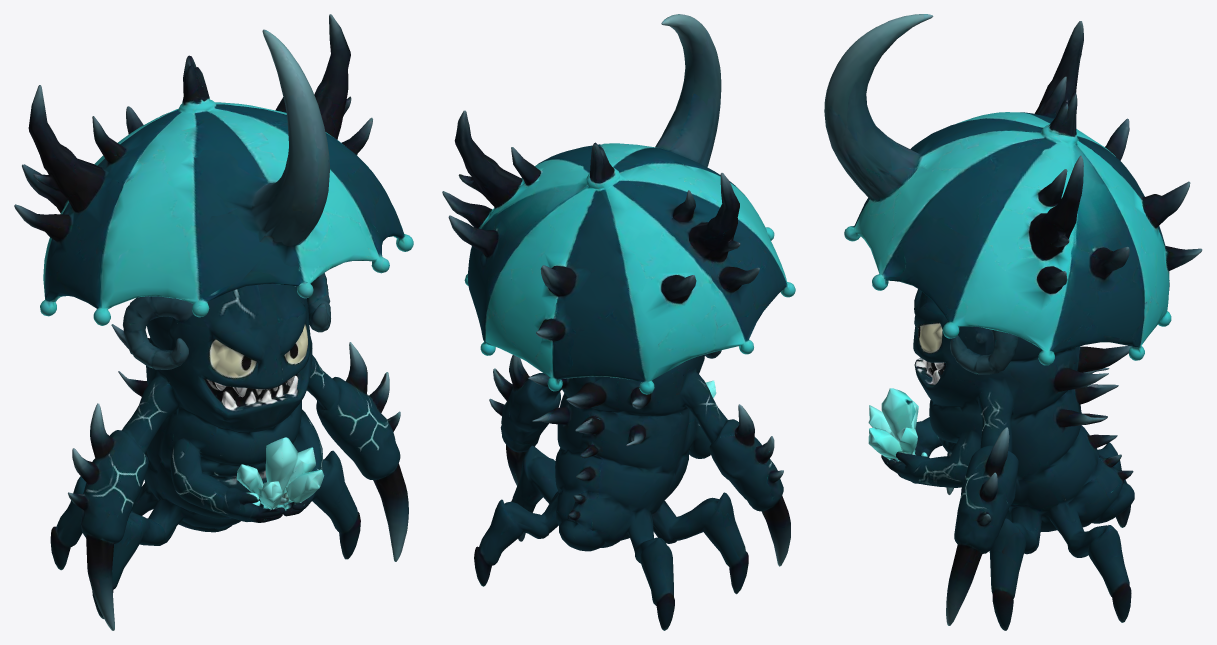
The model's file is boss-ombrelle.glb.
3 views of the same model, side by side, from view 1: azimuth 30°, elevation 25°; view 2: azimuth 150°, elevation 25°; view 3: azimuth 270°, elevation 25° (orthographic). The views are drawn at different scales.
Bounding box in the file's own units: 1.21 × 1.9 × 1.16.
1 material, 1 textured.
